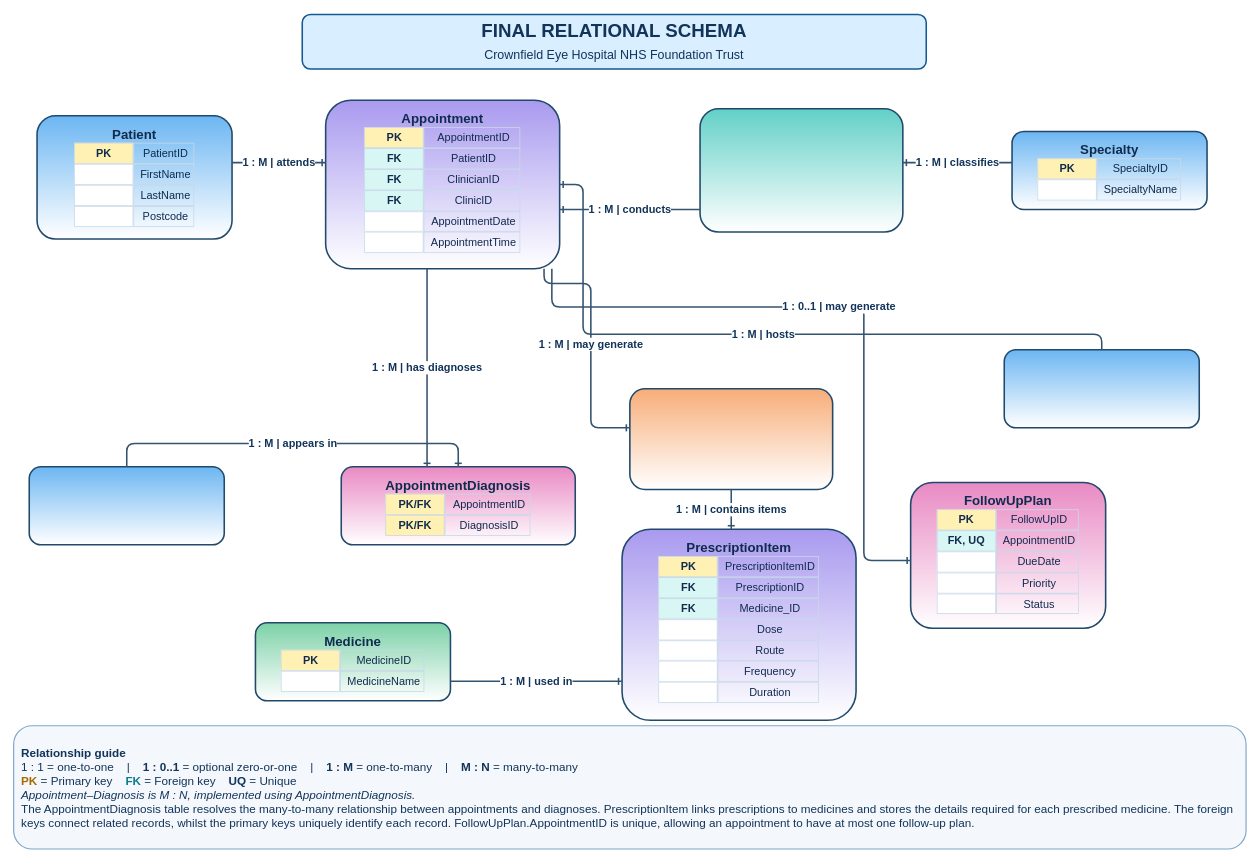
Some shapes in this 1260 by 863 pixel diagram are drawn without their labels. The centre of each missing label's shape, as x and y in pixels:
Clinic PK ClinicID ClinicName: the point at 1101,388
Clinician PK ClinicianID FirstName LastName FK SpecialtyID: the point at 801,170
Diagnosis PK DiagnosisID DiagnosisName: the point at 126,505
Prescription PK PrescriptionID FK AppointmentID PrescriptionDate: the point at 731,439
